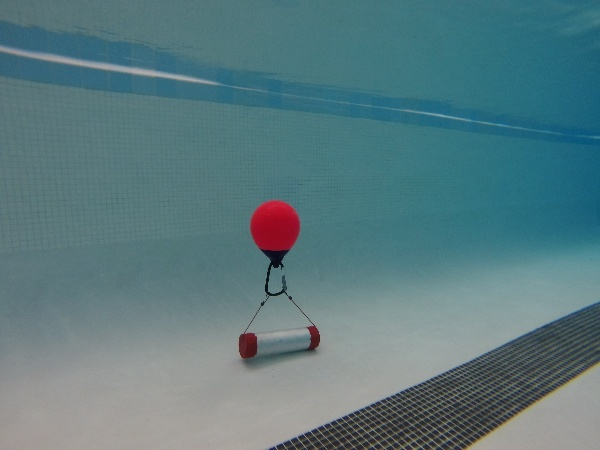buoy_red: (247, 200, 302, 272)
